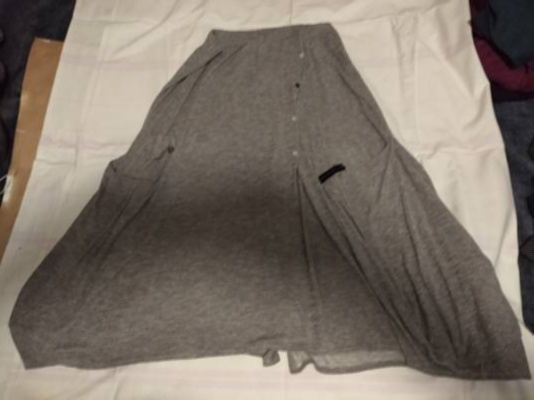Dress: (12, 17, 503, 384)
